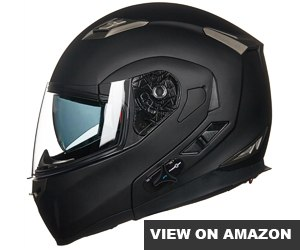with_helmet: (24, 1, 276, 247)
